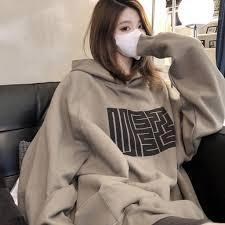sweater: (14, 53, 216, 224)
